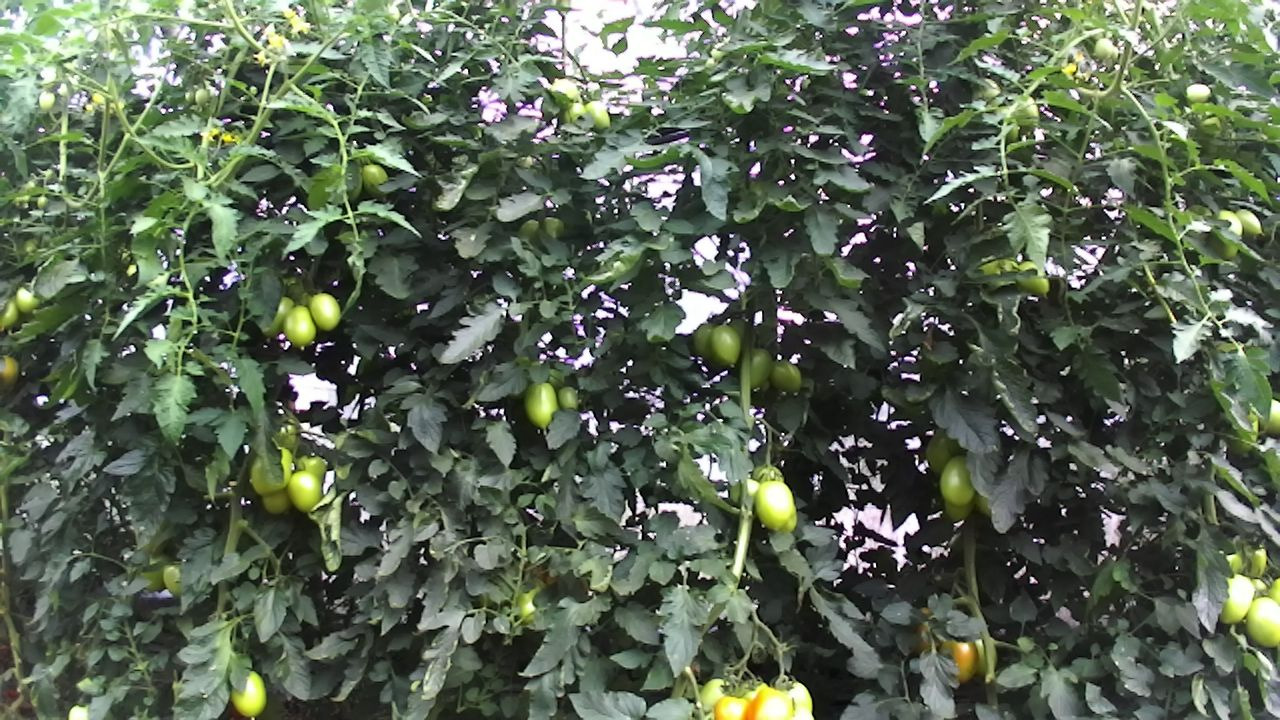tomato: (1215, 567, 1259, 629), (934, 632, 983, 687), (936, 452, 980, 508), (753, 477, 796, 534), (1241, 593, 1280, 651), (519, 377, 560, 432), (229, 667, 268, 719), (745, 681, 797, 720), (284, 468, 325, 514), (705, 321, 743, 370), (763, 352, 804, 393), (744, 343, 777, 392), (280, 303, 315, 349), (307, 290, 343, 332), (1228, 201, 1265, 240), (709, 690, 756, 720), (554, 383, 581, 413)
